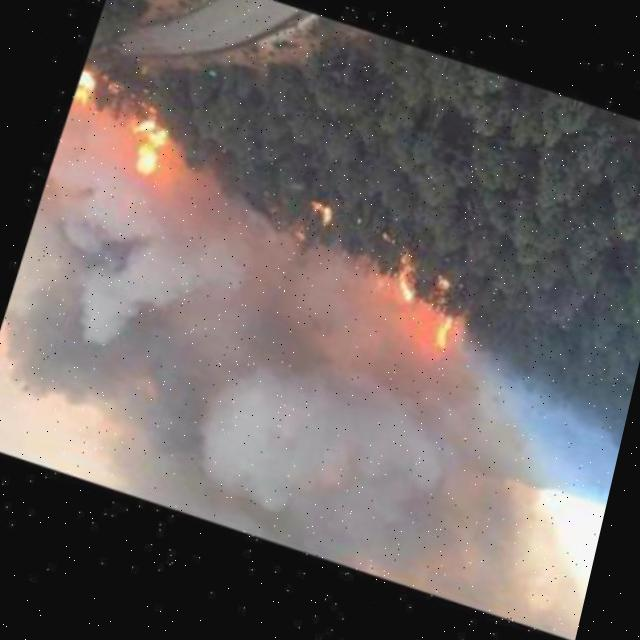fire: (105, 113, 174, 189), (411, 280, 465, 363), (60, 70, 105, 128), (385, 260, 420, 307), (299, 203, 333, 229)
